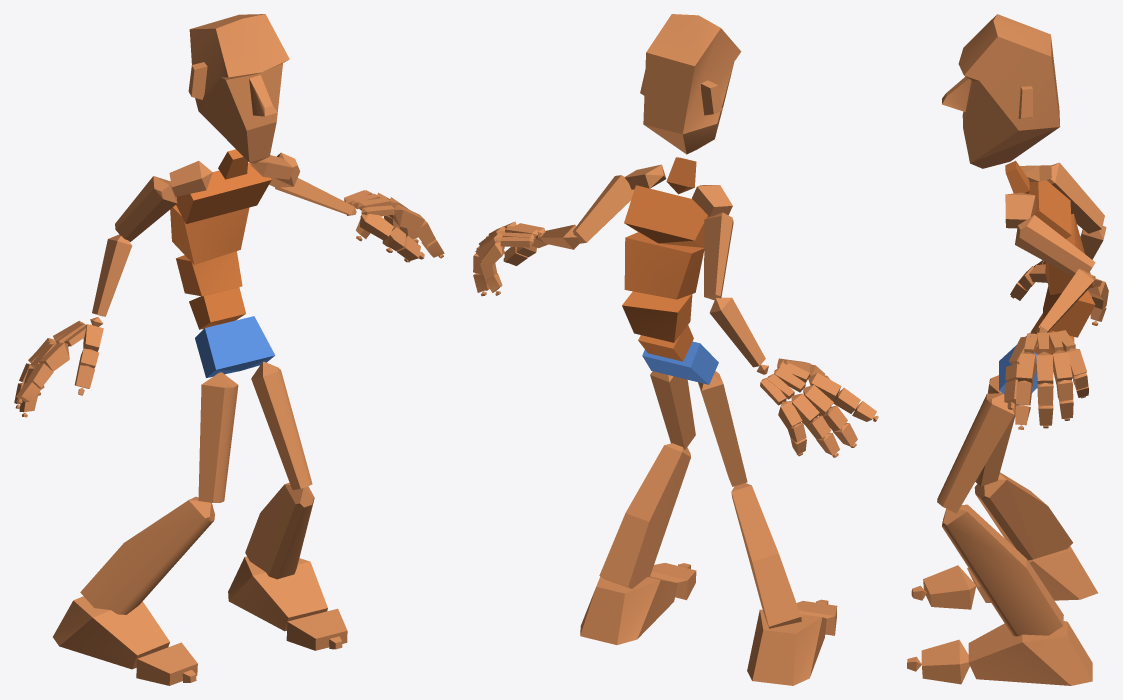
File: prueba217.obj
3 renders of one model, left to right at view 1: azimuth 30°, elevation 25°; view 2: azimuth 150°, elevation 25°; view 3: azimuth 270°, elevation 25°, orthographic. The views are drawn at different scales.
Parts seen in each view (by area): view 1: BOPED_Head, BOPED_R_leg, BOPED_R_foot, BOPED_R_foot01, BOPED_L_leg, BOPED_R_legup, BOPED_L_legup, Bone01, Bone04, Bone05, Bone03, BOPED_R_arm_upper (+8 smaller); view 2: BOPED_Head, BOPED_L_leg, BOPED_R_foot01, BOPED_R_leg, BOPED_R_foot, Bone04, Bone05, Bone03, BOPED_R_legup, BOPED_L_legup, BOPED_R_arm_upper, BOPED_L_arm_upper (+9 smaller); view 3: BOPED_Head, BOPED_L_leg, BOPED_R_foot01, BOPED_R_leg, BOPED_L_legup, BOPED_R_foot, BOPED_L_arm_upper, BOPED_R_foot_toe01, BOPED_R_foot_toe04, BOPED_R_arm_upper, Bone05, Bone03 (+15 smaller).
Part boxes in pixels (<box>): BOPED_Head: <box>188,14,289,163</box>; BOPED_R_leg: <box>80,496,214,614</box>; BOPED_R_foot: <box>53,596,169,669</box>; BOPED_R_foot01: <box>228,556,327,631</box>; BOPED_L_leg: <box>245,482,314,579</box>; BOPED_R_legup: <box>198,372,238,502</box>; BOPED_L_legup: <box>251,361,312,489</box>; Bone01: <box>195,316,275,377</box>; Bone04: <box>170,205,249,264</box>; Bone05: <box>176,162,271,223</box>; Bone03: <box>176,251,242,296</box>; BOPED_R_arm_upper: <box>115,176,177,241</box>; BOPED_Head: <box>640,14,741,154</box>; BOPED_L_leg: <box>599,443,690,588</box>; BOPED_R_foot01: <box>580,576,677,644</box>; BOPED_R_leg: <box>731,483,801,628</box>; BOPED_R_foot: <box>747,609,826,685</box>; Bone04: <box>624,232,704,299</box>; Bone05: <box>624,185,710,247</box>; Bone03: <box>622,291,692,342</box>; BOPED_R_legup: <box>698,371,747,486</box>; BOPED_L_legup: <box>650,371,695,449</box>; BOPED_R_arm_upper: <box>704,212,733,300</box>; BOPED_L_arm_upper: <box>573,175,634,243</box>; BOPED_Head: <box>942,14,1060,168</box>; BOPED_L_leg: <box>942,504,1063,636</box>; BOPED_R_foot01: <box>968,621,1092,685</box>; BOPED_R_leg: <box>974,472,1072,560</box>; BOPED_L_legup: <box>937,393,1014,513</box>; BOPED_R_foot: <box>967,546,1097,602</box>; BOPED_L_arm_upper: <box>1015,215,1095,276</box>; BOPED_R_foot_toe01: <box>923,565,976,609</box>; BOPED_R_foot_toe04: <box>921,639,969,684</box>; BOPED_R_arm_upper: <box>1047,162,1104,233</box>; Bone05: <box>1028,180,1071,238</box>; Bone03: <box>1043,286,1095,337</box>.
Bounding box in the file's own units: 130 × 183 × 53.68.
